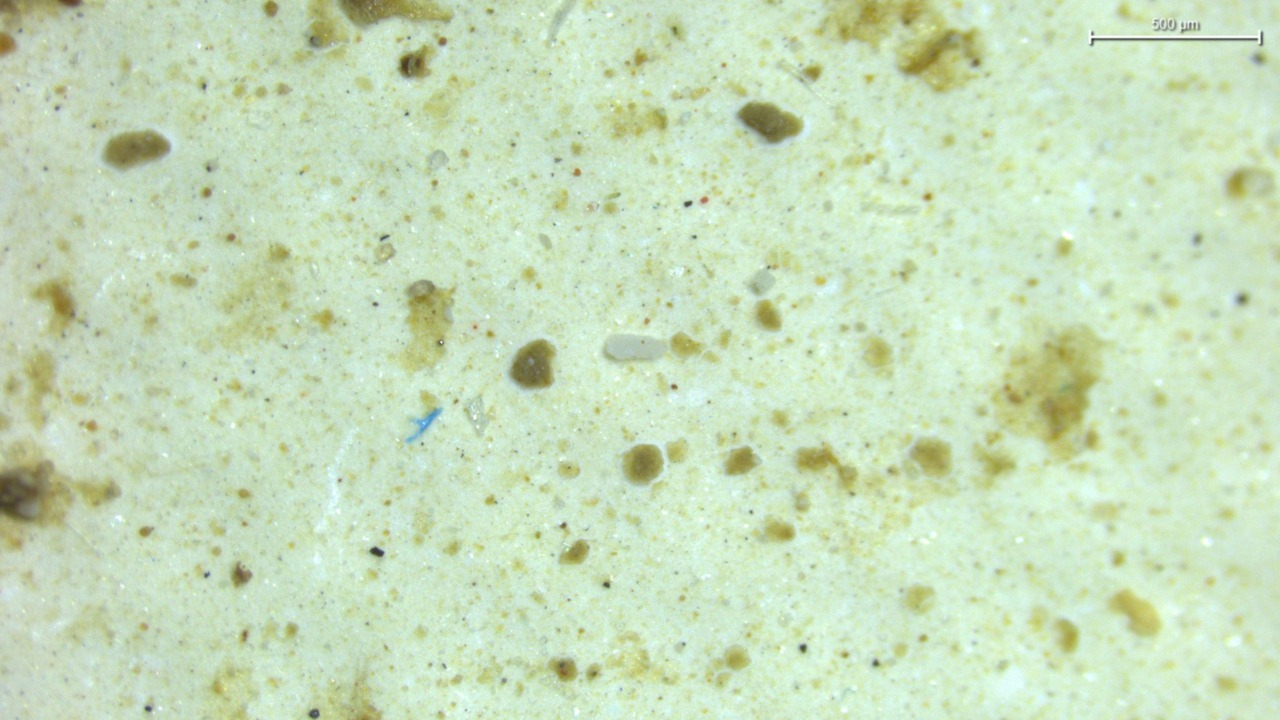microplastic_fragment: (605, 334, 668, 360)
